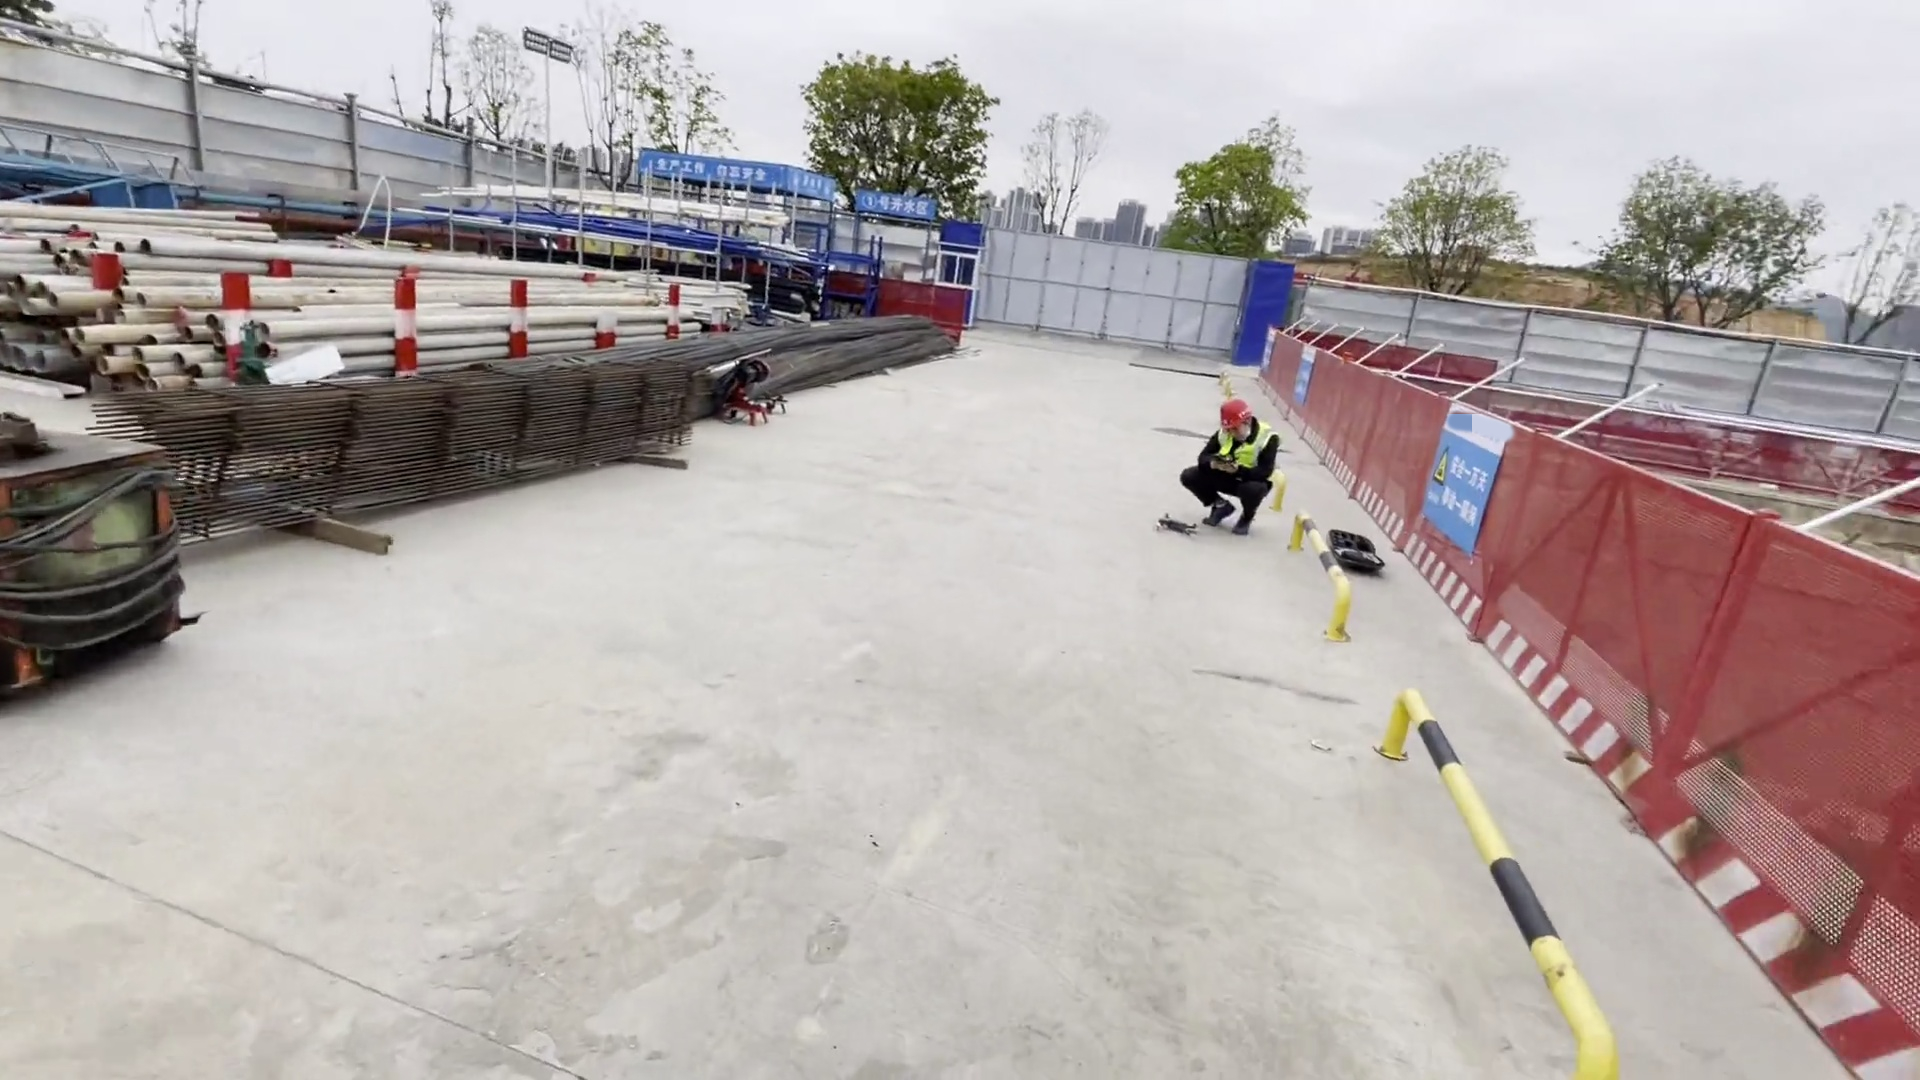cutter: (707, 340, 783, 430)
fence: (1253, 331, 1920, 1074)
helmet: (1216, 399, 1252, 428)
person: (1171, 396, 1278, 546)
rebar: (476, 312, 965, 419)
slogan: (1424, 443, 1484, 531)
vest: (1218, 433, 1260, 467)
